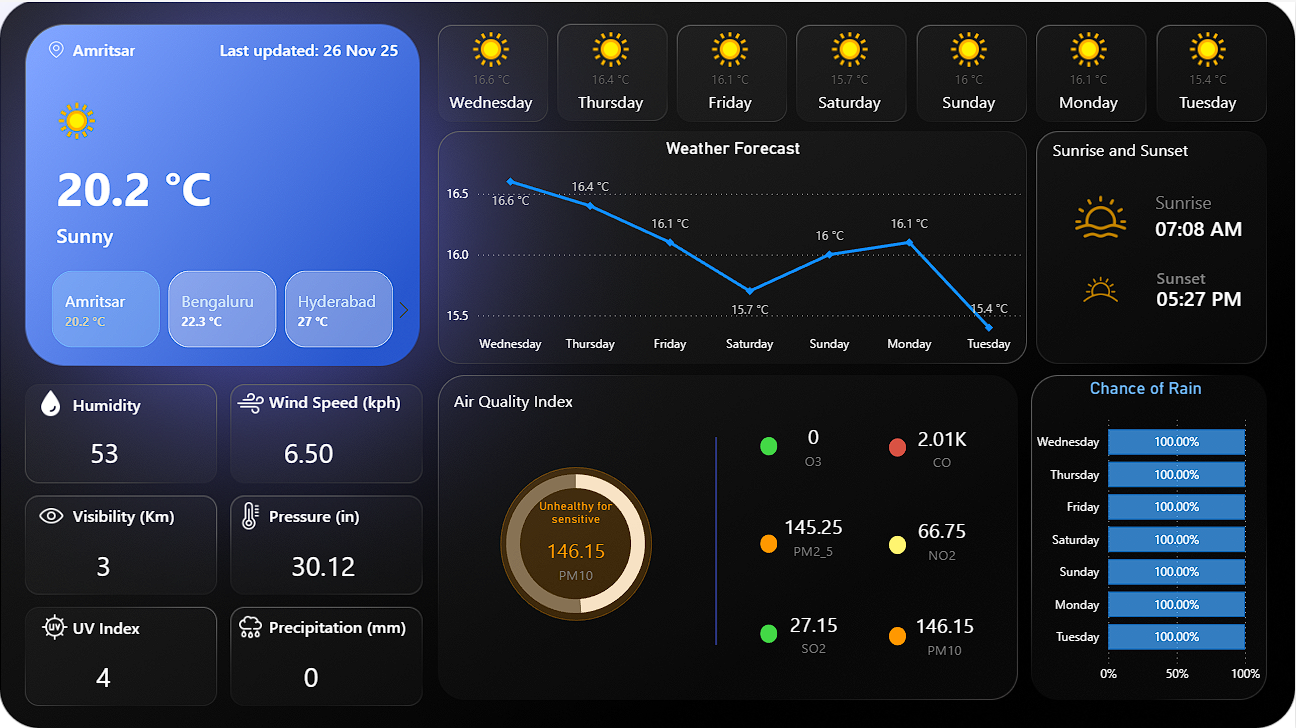

What the dashboard file says about the page in this screenshot:
{"tool":"powerbi","page":{"name":"Page 1","canvas":[1280,720],"ordinal":0},"visuals":[{"type":"donutChart","fields":{"Y":["Sum(Current.current.air_quality.pm10)","_Measures.Left_PM10_Value"]},"box":[430,444.3,280,181.4],"z":0},{"type":"shape","box":[494.7,458.7,150,152],"z":1000},{"type":"advancedSlicerVisual","fields":{"Values":["Locations.location.name"]},"box":[26.7,261.1,388.9,86.7],"z":2000},{"type":"shape","box":[56.7,150.8,267.8,66.4],"z":3000},{"type":"shape","box":[56.6,216.6,164.2,27.6],"z":4000},{"type":"shape","box":[73.3,32,164,28.7],"z":5000},{"type":"shape","box":[207.1,32.9,187.1,27.1],"z":6000},{"type":"image","box":[48,33.3,16.7,27.3],"z":7000},{"type":"cardVisual","fields":{"Data":["Min(Current.current.condition.icon)"]},"box":[16.7,74.4,114.4,87.8],"z":8000},{"type":"image","box":[35.7,382.9,30,27.1],"z":9000},{"type":"image","box":[229.2,382.5,37.5,27.5],"z":10000},{"type":"image","box":[29.2,494.2,44.2,27.5],"z":11000},{"type":"image","box":[229.2,494.2,37.5,27.5],"z":12000},{"type":"image","box":[35.8,603.3,38.3,27.5],"z":13000},{"type":"image","box":[229.2,603.3,37.5,27.5],"z":14000},{"type":"shape","box":[73.3,382.5,76.7,27.5],"z":15000},{"type":"shape","box":[267.1,381.4,140,27.1],"z":16000},{"type":"shape","box":[72.9,494.3,132.9,27.1],"z":17000},{"type":"shape","box":[267.1,494.3,97.1,27.1],"z":18000},{"type":"shape","box":[73.3,603.3,76.7,27.5],"z":19000},{"type":"shape","box":[267.1,602.9,148.6,28.6],"z":20000},{"type":"cardVisual","fields":{"Data":["Sum(Current.current.humidity)"]},"box":[72.9,408.6,132.9,68.6],"z":21000},{"type":"cardVisual","fields":{"Data":["Sum(Current.current.wind_kph)"]},"box":[264.3,408.6,142.9,68.6],"z":22000},{"type":"cardVisual","fields":{"Data":["Sum(Current.current.vis_km)"]},"box":[78.6,521.4,91.4,68.6],"z":23000},{"type":"cardVisual","fields":{"Data":["Sum(Current.current.pressure_in)"]},"box":[271.4,521.4,144.3,68.6],"z":24000},{"type":"cardVisual","fields":{"Data":["Sum(Current.current.uv)"]},"box":[78.6,631.4,91.4,67.1],"z":25000},{"type":"cardVisual","fields":{"Data":["Sum(Current.current.precip_mm)"]},"box":[284.3,631.4,110,67.1],"z":26000},{"type":"advancedSlicerVisual","fields":{"Values":["Forecast_Day.Day_Name"]},"box":[425.9,22.9,828.8,103.8],"z":27000},{"type":"lineChart","title":"Weather Forecast","fields":{"Y":["Sum(Forecast_Day.forecast.forecastday.day.avgtemp_c)"],"Category":["Forecast_Day.Day_Name"]},"box":[436.3,134.6,578.7,220.8],"z":28000},{"type":"shape","box":[1041.2,134.6,150.2,27.4],"z":29000},{"type":"shape","box":[1142,187,109,46],"z":30000},{"type":"shape","box":[1143,261,109,36],"z":31000},{"type":"shape","box":[1141.6,209.6,109,46],"z":32000},{"type":"shape","box":[1142.8,278.6,108,36],"z":33000},{"type":"image","box":[1061,261,55,46],"z":34000},{"type":"image","box":[1061,187,55,51],"z":35000},{"type":"hundredPercentStackedBarChart","title":"Chance of Rain","fields":{"Y":["Sum(Forecast_Day.forecast.forecastday.day.daily_chance_of_rain)","_Measures.Left_Rain_Value"],"Category":["Forecast_Day.Day_Name"]},"box":[1015,372,236,310],"z":36000},{"type":"shape","box":[450,382.9,150,27.1],"z":37000},{"type":"cardVisual","fields":{"Data":["Sum(Current.current.air_quality.co)"]},"box":[878.8,396.2,105.6,87.5],"z":38000},{"type":"cardVisual","fields":{"Data":["Sum(Current.current.air_quality.no2)"]},"box":[879.4,488.1,105.6,86.9],"z":39000},{"type":"cardVisual","fields":{"Data":["Sum(Current.current.air_quality.o3)"]},"box":[752.1,395.4,105.6,86.9],"z":40000},{"type":"cardVisual","fields":{"Data":["Sum(Current.current.air_quality.pm10)"]},"box":[878.8,581.2,110,86.9],"z":41000},{"type":"cardVisual","fields":{"Data":["Sum(Current.current.air_quality.pm2_5)"]},"box":[751.9,483.8,105.6,86.9],"z":42000},{"type":"cardVisual","fields":{"Data":["Sum(Current.current.air_quality.so2)"]},"box":[751.5,579.8,106.2,86.9],"z":43000},{"type":"shape","box":[752.1,429.8,16.9,18.1],"z":44000},{"type":"shape","box":[752.1,525.4,16.9,18.1],"z":45000},{"type":"shape","box":[752.1,615.4,16.9,18.1],"z":46000},{"type":"shape","box":[879.4,431.2,16.9,18.1],"z":47000},{"type":"shape","box":[879.4,526.9,16.9,18.1],"z":48000},{"type":"shape","box":[879.4,616.9,16.9,18.1],"z":49000},{"type":"shape","box":[665.7,430,85.7,205.7],"z":50000},{"type":"cardVisual","fields":{"Data":["Sum(Current.current.air_quality.pm10)"]},"box":[515,490,110,100],"z":51000}]}

Visuals, with their boxes in screenshot pixels (x1, y1, x2, y2), scaled from the page's 1280x720 canvas onto the 1296x728 screenshot:
donutChart - Sum(Current.current.air_quality.pm10) x _Measures.Left_PM10_Value: <region>435, 449, 719, 633</region>
shape: <region>501, 464, 653, 617</region>
advancedSlicerVisual - Locations.location.name: <region>27, 264, 421, 352</region>
shape: <region>57, 152, 329, 220</region>
shape: <region>57, 219, 224, 247</region>
shape: <region>74, 32, 240, 61</region>
shape: <region>210, 33, 399, 61</region>
image: <region>49, 34, 66, 61</region>
cardVisual - Min(Current.current.condition.icon): <region>17, 75, 133, 164</region>
image: <region>36, 387, 67, 415</region>
image: <region>232, 387, 270, 415</region>
image: <region>30, 500, 74, 527</region>
image: <region>232, 500, 270, 527</region>
image: <region>36, 610, 75, 638</region>
image: <region>232, 610, 270, 638</region>
shape: <region>74, 387, 152, 415</region>
shape: <region>270, 386, 412, 413</region>
shape: <region>74, 500, 208, 527</region>
shape: <region>270, 500, 369, 527</region>
shape: <region>74, 610, 152, 638</region>
shape: <region>270, 610, 421, 639</region>
cardVisual - Sum(Current.current.humidity): <region>74, 413, 208, 483</region>
cardVisual - Sum(Current.current.wind_kph): <region>268, 413, 412, 483</region>
cardVisual - Sum(Current.current.vis_km): <region>80, 527, 172, 597</region>
cardVisual - Sum(Current.current.pressure_in): <region>275, 527, 421, 597</region>
cardVisual - Sum(Current.current.uv): <region>80, 638, 172, 706</region>
cardVisual - Sum(Current.current.precip_mm): <region>288, 638, 399, 706</region>
advancedSlicerVisual - Forecast_Day.Day_Name: <region>431, 23, 1270, 128</region>
"Weather Forecast" lineChart: <region>442, 136, 1028, 359</region>
shape: <region>1054, 136, 1206, 164</region>
shape: <region>1156, 189, 1267, 236</region>
shape: <region>1157, 264, 1268, 300</region>
shape: <region>1156, 212, 1266, 258</region>
shape: <region>1157, 282, 1266, 318</region>
image: <region>1074, 264, 1130, 310</region>
image: <region>1074, 189, 1130, 241</region>
"Chance of Rain" hundredPercentStackedBarChart: <region>1028, 376, 1267, 690</region>
shape: <region>456, 387, 608, 415</region>
cardVisual - Sum(Current.current.air_quality.co): <region>890, 401, 997, 489</region>
cardVisual - Sum(Current.current.air_quality.no2): <region>890, 494, 997, 581</region>
cardVisual - Sum(Current.current.air_quality.o3): <region>762, 400, 868, 488</region>
cardVisual - Sum(Current.current.air_quality.pm10): <region>890, 588, 1001, 676</region>
cardVisual - Sum(Current.current.air_quality.pm2_5): <region>761, 489, 868, 577</region>
cardVisual - Sum(Current.current.air_quality.so2): <region>761, 586, 868, 674</region>
shape: <region>762, 435, 779, 453</region>
shape: <region>762, 531, 779, 550</region>
shape: <region>762, 622, 779, 641</region>
shape: <region>890, 436, 908, 454</region>
shape: <region>890, 533, 908, 551</region>
shape: <region>890, 624, 908, 642</region>
shape: <region>674, 435, 761, 643</region>
cardVisual - Sum(Current.current.air_quality.pm10): <region>521, 495, 633, 597</region>
